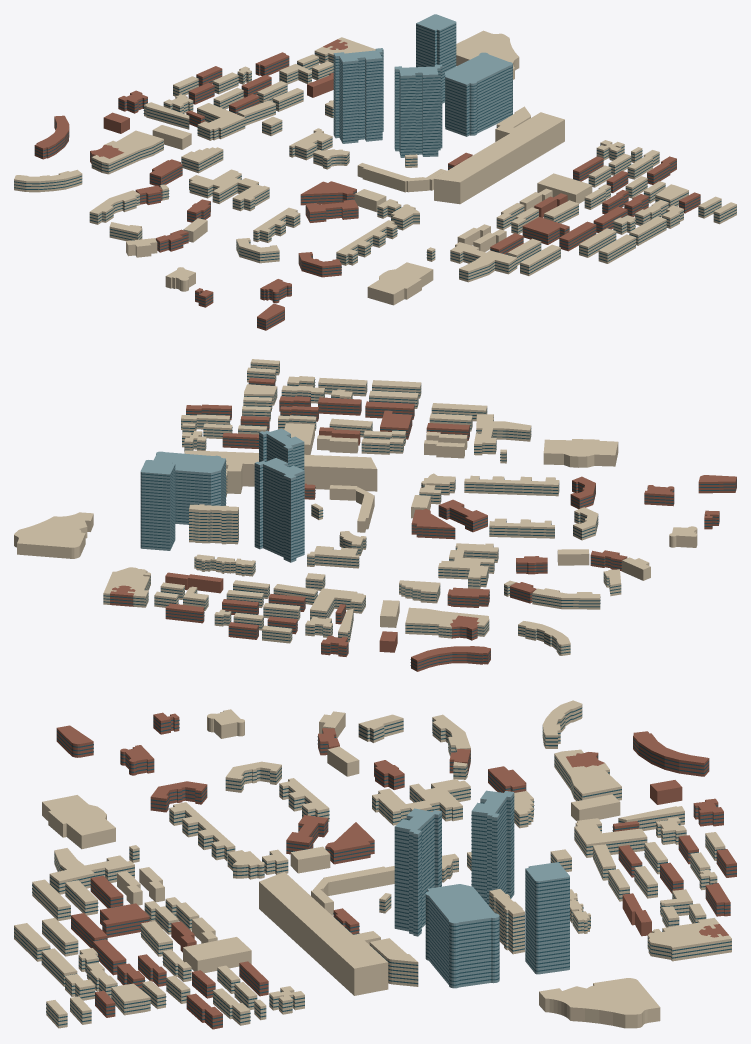
The picture shows the model from 3 angles, top to bottom: view 1: azimuth 30°, elevation 25°; view 2: azimuth 150°, elevation 25°; view 3: azimuth 270°, elevation 25°; orthographic projection. The views are drawn at different scales.
Visible parts, largest first — view 1: osm-relation-17818757, osm-relation-13042457, osm-way-969466781, osm-way-969466782, osm-way-969466751, osm-way-1198910491, osm-way-10627378, osm-way-967835500, osm-way-1198910486, osm-way-969466778, osm-way-964254613, osm-way-1198910497 (+35 smaller); view 2: osm-way-969466781, osm-relation-17818757, osm-way-969466751, osm-relation-13042457, osm-way-967835500, osm-way-1198910491, osm-way-10627378, osm-way-969466766, osm-way-1198910497, osm-way-764096052, osm-way-969466782, osm-way-841161980 (+43 smaller); view 3: osm-relation-17818757, osm-relation-13042457, osm-way-969466782, osm-way-969466751, osm-way-969466781, osm-way-967835500, osm-way-1198910491, osm-way-10627378, osm-way-964254646, osm-way-969466778, osm-way-764096052, osm-way-1356107953 (+57 smaller).
Part boxes in pixels (<box>): osm-relation-17818757: <box>434,112,564,204</box>; osm-relation-13042457: <box>445,52,512,136</box>; osm-way-969466781: <box>333,48,383,143</box>; osm-way-969466782: <box>394,64,442,157</box>; osm-way-969466751: <box>416,14,456,103</box>; osm-way-1198910491: <box>189,169,269,211</box>; osm-way-10627378: <box>367,262,433,305</box>; osm-way-967835500: <box>456,30,519,79</box>; osm-way-1198910486: <box>91,132,163,174</box>; osm-way-969466778: <box>357,163,446,192</box>; osm-way-964254613: <box>197,103,245,140</box>; osm-way-1198910497: <box>336,220,397,265</box>; osm-way-969466781: <box>254,458,304,562</box>; osm-relation-17818757: <box>184,450,377,493</box>; osm-way-969466751: <box>140,460,175,550</box>; osm-relation-13042457: <box>154,451,226,524</box>; osm-way-967835500: <box>14,512,93,558</box>; osm-way-1198910491: <box>438,543,498,588</box>; osm-way-10627378: <box>543,439,618,467</box>; osm-way-969466766: <box>189,504,238,544</box>; osm-way-1198910497: <box>464,475,559,496</box>; osm-way-764096052: <box>410,646,490,671</box>; osm-way-969466782: <box>259,428,304,469</box>; osm-way-841161980: <box>532,588,600,609</box>; osm-relation-17818757: <box>259,872,388,995</box>; osm-relation-13042457: <box>425,884,499,988</box>; osm-way-969466782: <box>394,808,441,936</box>; osm-way-969466751: <box>525,862,569,974</box>; osm-way-969466781: <box>471,790,514,905</box>; osm-way-967835500: <box>539,978,660,1028</box>; osm-way-1198910491: <box>372,779,470,825</box>; osm-way-10627378: <box>42,795,115,849</box>; osm-way-964254646: <box>648,918,731,961</box>; osm-way-969466778: <box>311,866,394,915</box>; osm-way-764096052: <box>633,731,709,776</box>; osm-way-1356107953: <box>183,937,251,973</box>.
Bounding box in the file's own units: 742 × 112 × 718.
